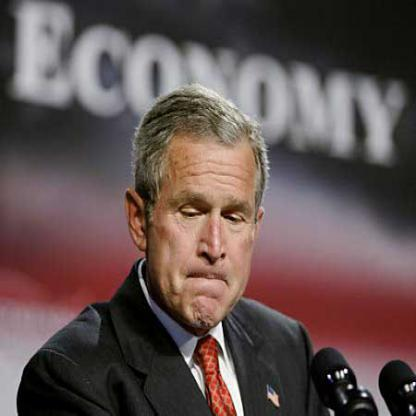face: (147, 95, 264, 335)
